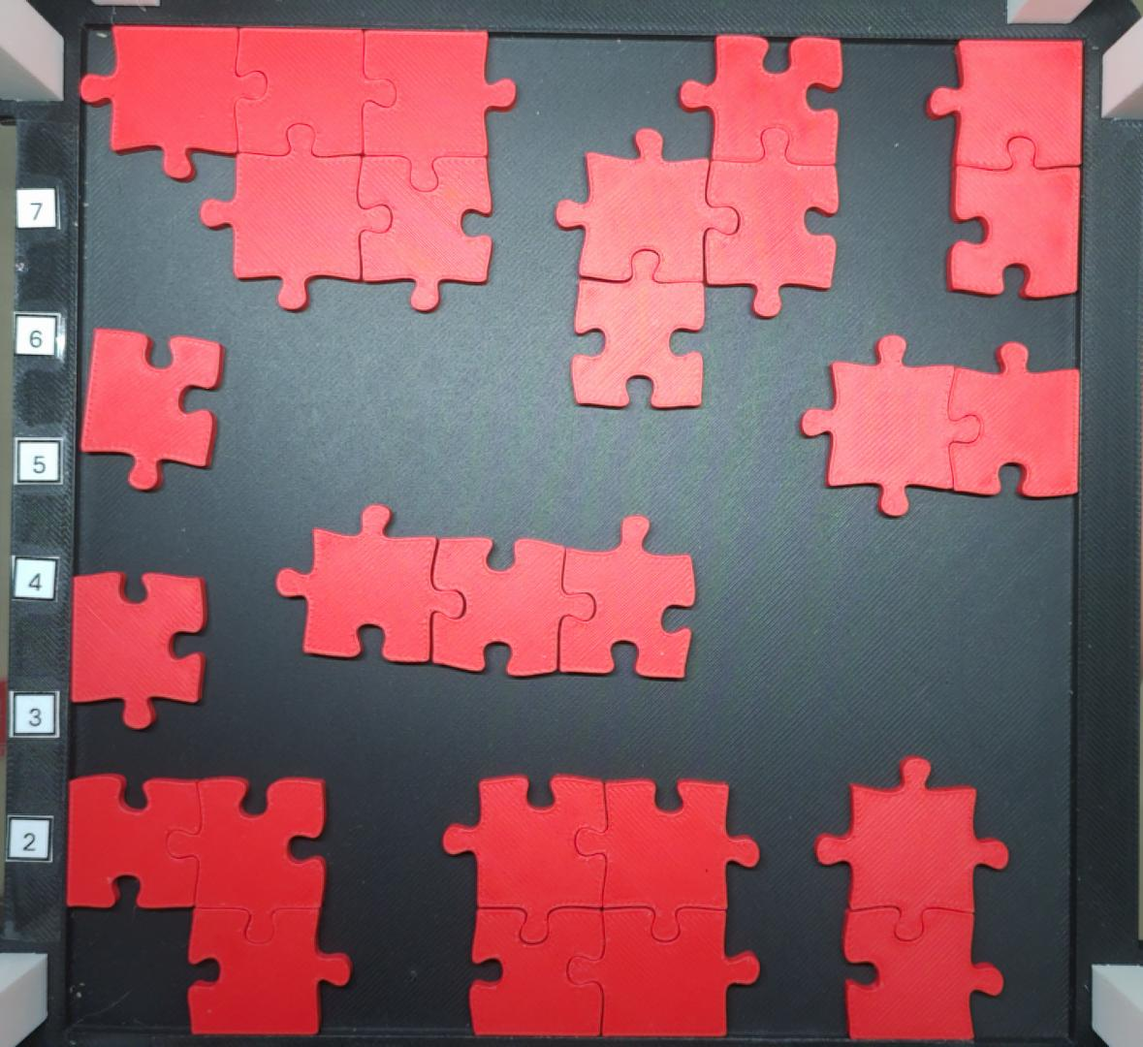p_1: (80, 330, 227, 492), (72, 568, 203, 733)
p_2: (811, 752, 1010, 1043), (794, 336, 1080, 523), (927, 36, 1083, 301)
p_3: (62, 772, 355, 1038), (278, 504, 701, 681)
p_4: (559, 36, 837, 408), (445, 773, 763, 1043)
p_m: (80, 20, 518, 312)
